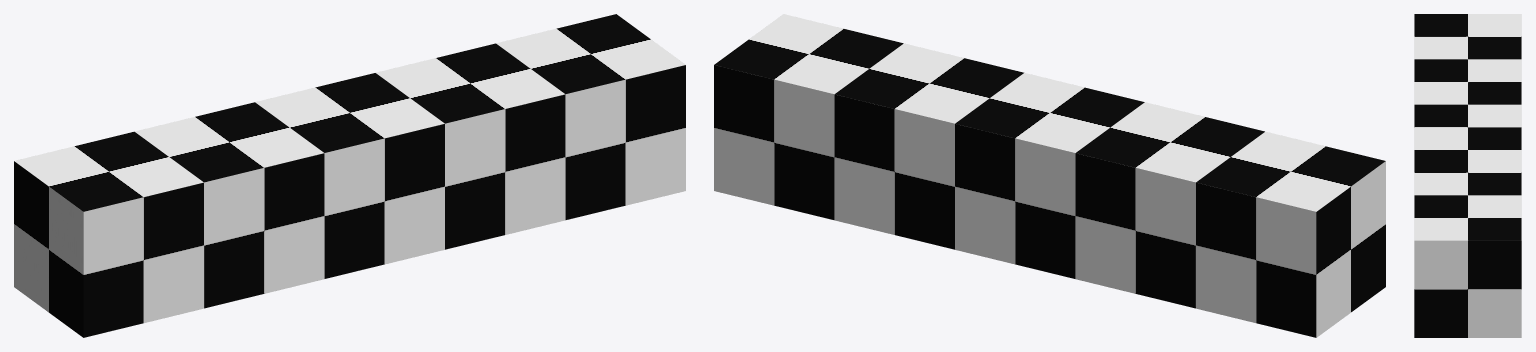
File: FinishLine.fbx
The picture shows the model from 3 angles, left to right: view 1: azimuth 30°, elevation 25°; view 2: azimuth 150°, elevation 25°; view 3: azimuth 270°, elevation 25°; orthographic projection. The views are drawn at different scales.
Visible parts, largest first — view 1: Cube.005; view 2: Cube.005; view 3: Cube.005.
Part boxes in pixels (<box>): Cube.005: <box>14,14,685,337</box>; Cube.005: <box>714,14,1385,337</box>; Cube.005: <box>1414,14,1521,337</box>.
Bounding box in the file's own units: 1000 × 200 × 200.
